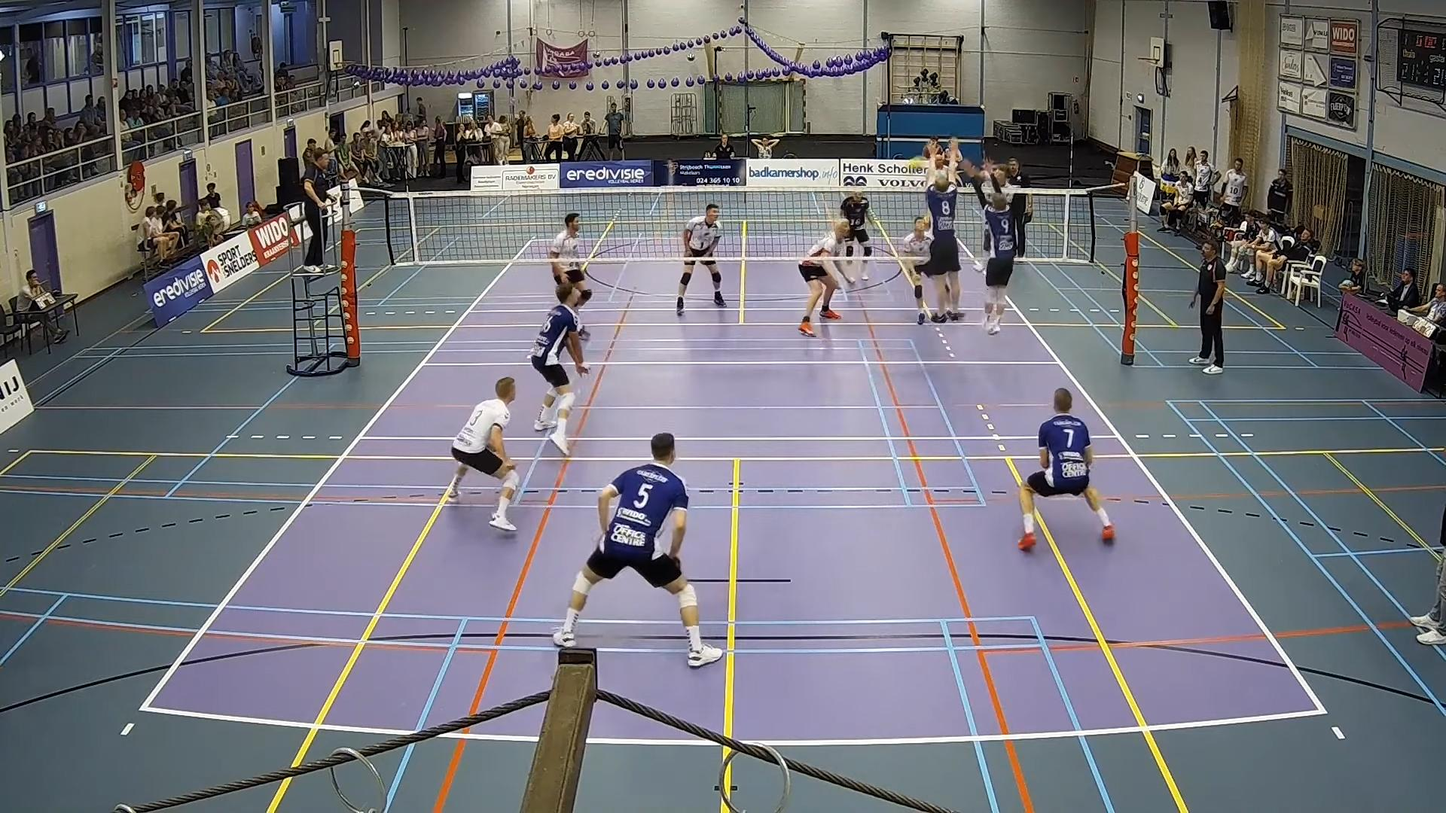Attack: (975, 154, 1028, 253)
Block: (971, 163, 1033, 341), (920, 158, 966, 335)
Player: (553, 433, 722, 667), (1018, 388, 1114, 550), (447, 377, 518, 531), (530, 282, 587, 454), (798, 220, 849, 336), (676, 203, 725, 315), (548, 212, 592, 308), (896, 216, 932, 324), (840, 189, 872, 284)
ball: (906, 161, 925, 172)
